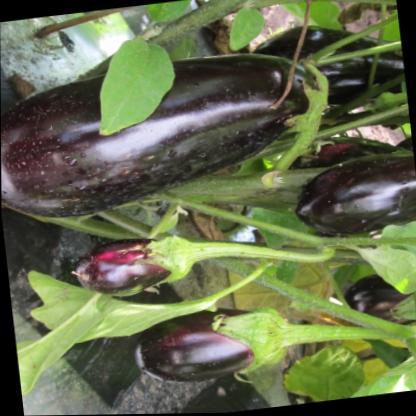--: (0, 26, 346, 233)
